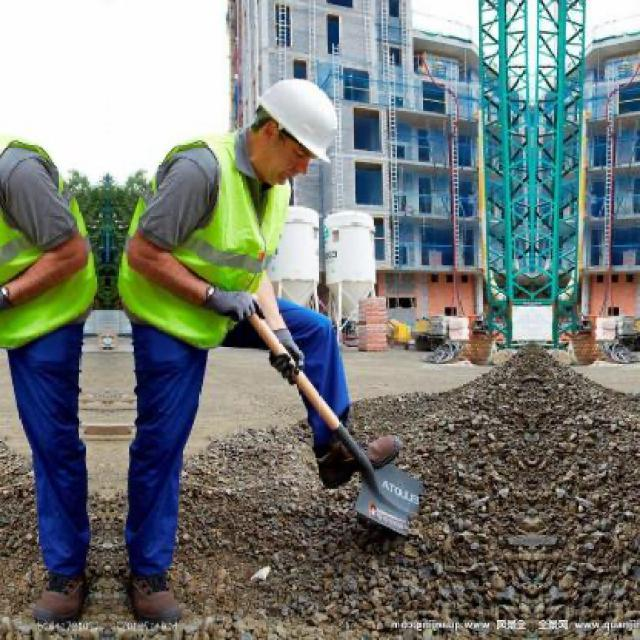helmet: (238, 61, 348, 192)
